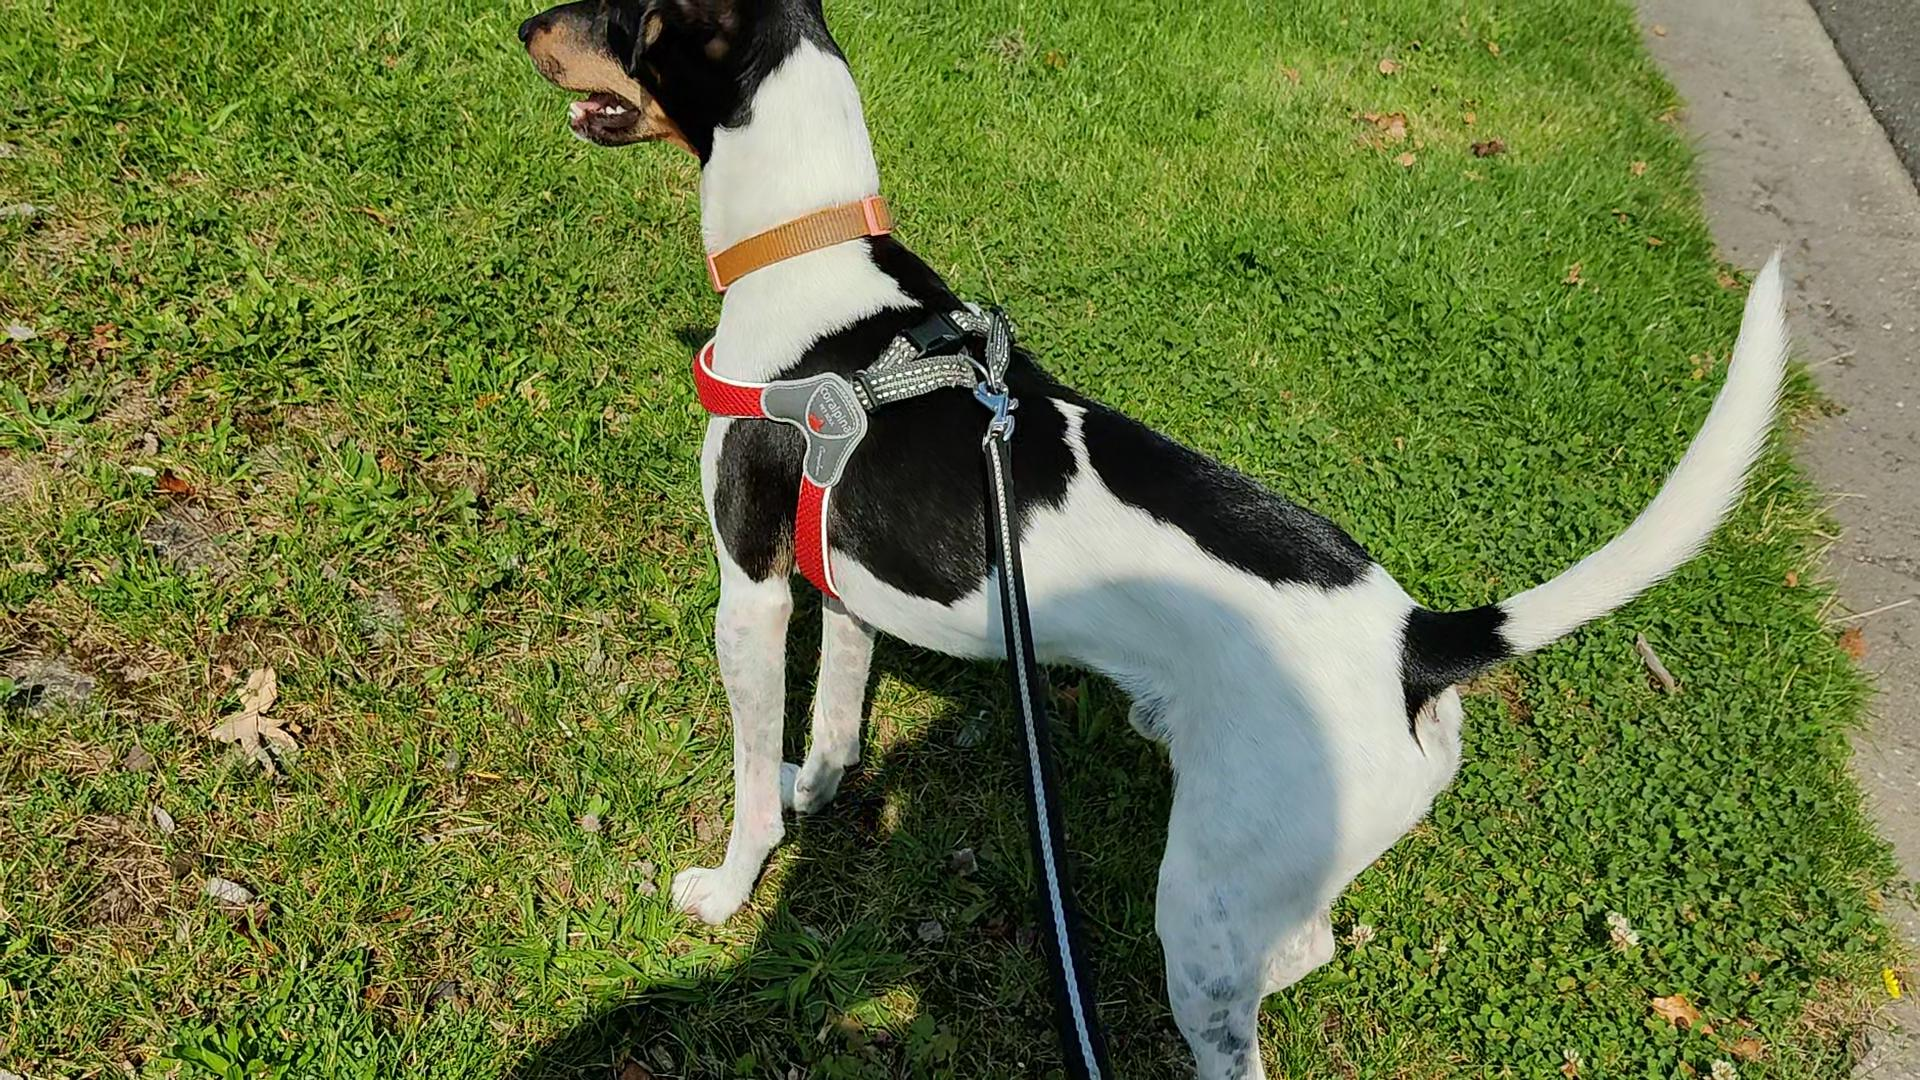Dog: (512, 0, 1787, 1079)
